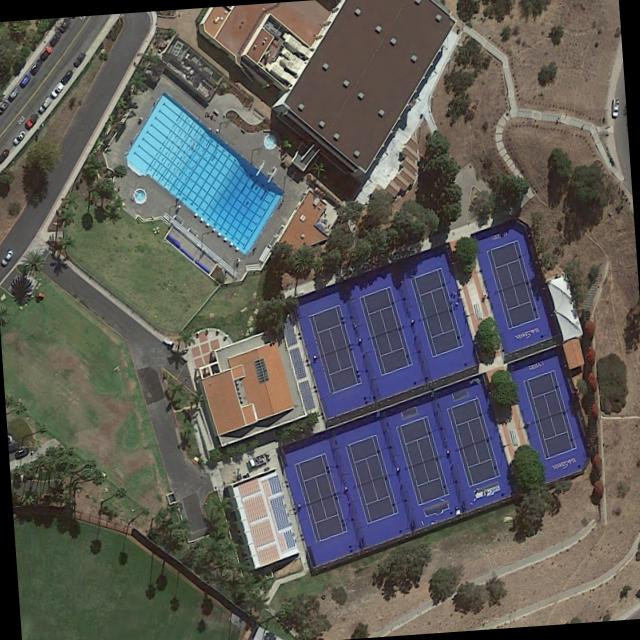small-vehicle: (24, 111, 40, 129), (38, 43, 53, 61), (30, 56, 44, 74), (48, 29, 62, 47), (38, 95, 52, 112), (50, 81, 64, 98), (12, 129, 26, 145), (18, 71, 32, 87), (73, 50, 86, 66), (8, 85, 21, 101), (1, 249, 13, 265), (61, 68, 73, 84), (59, 17, 71, 31), (0, 97, 10, 113), (0, 146, 9, 163), (611, 98, 619, 117)
